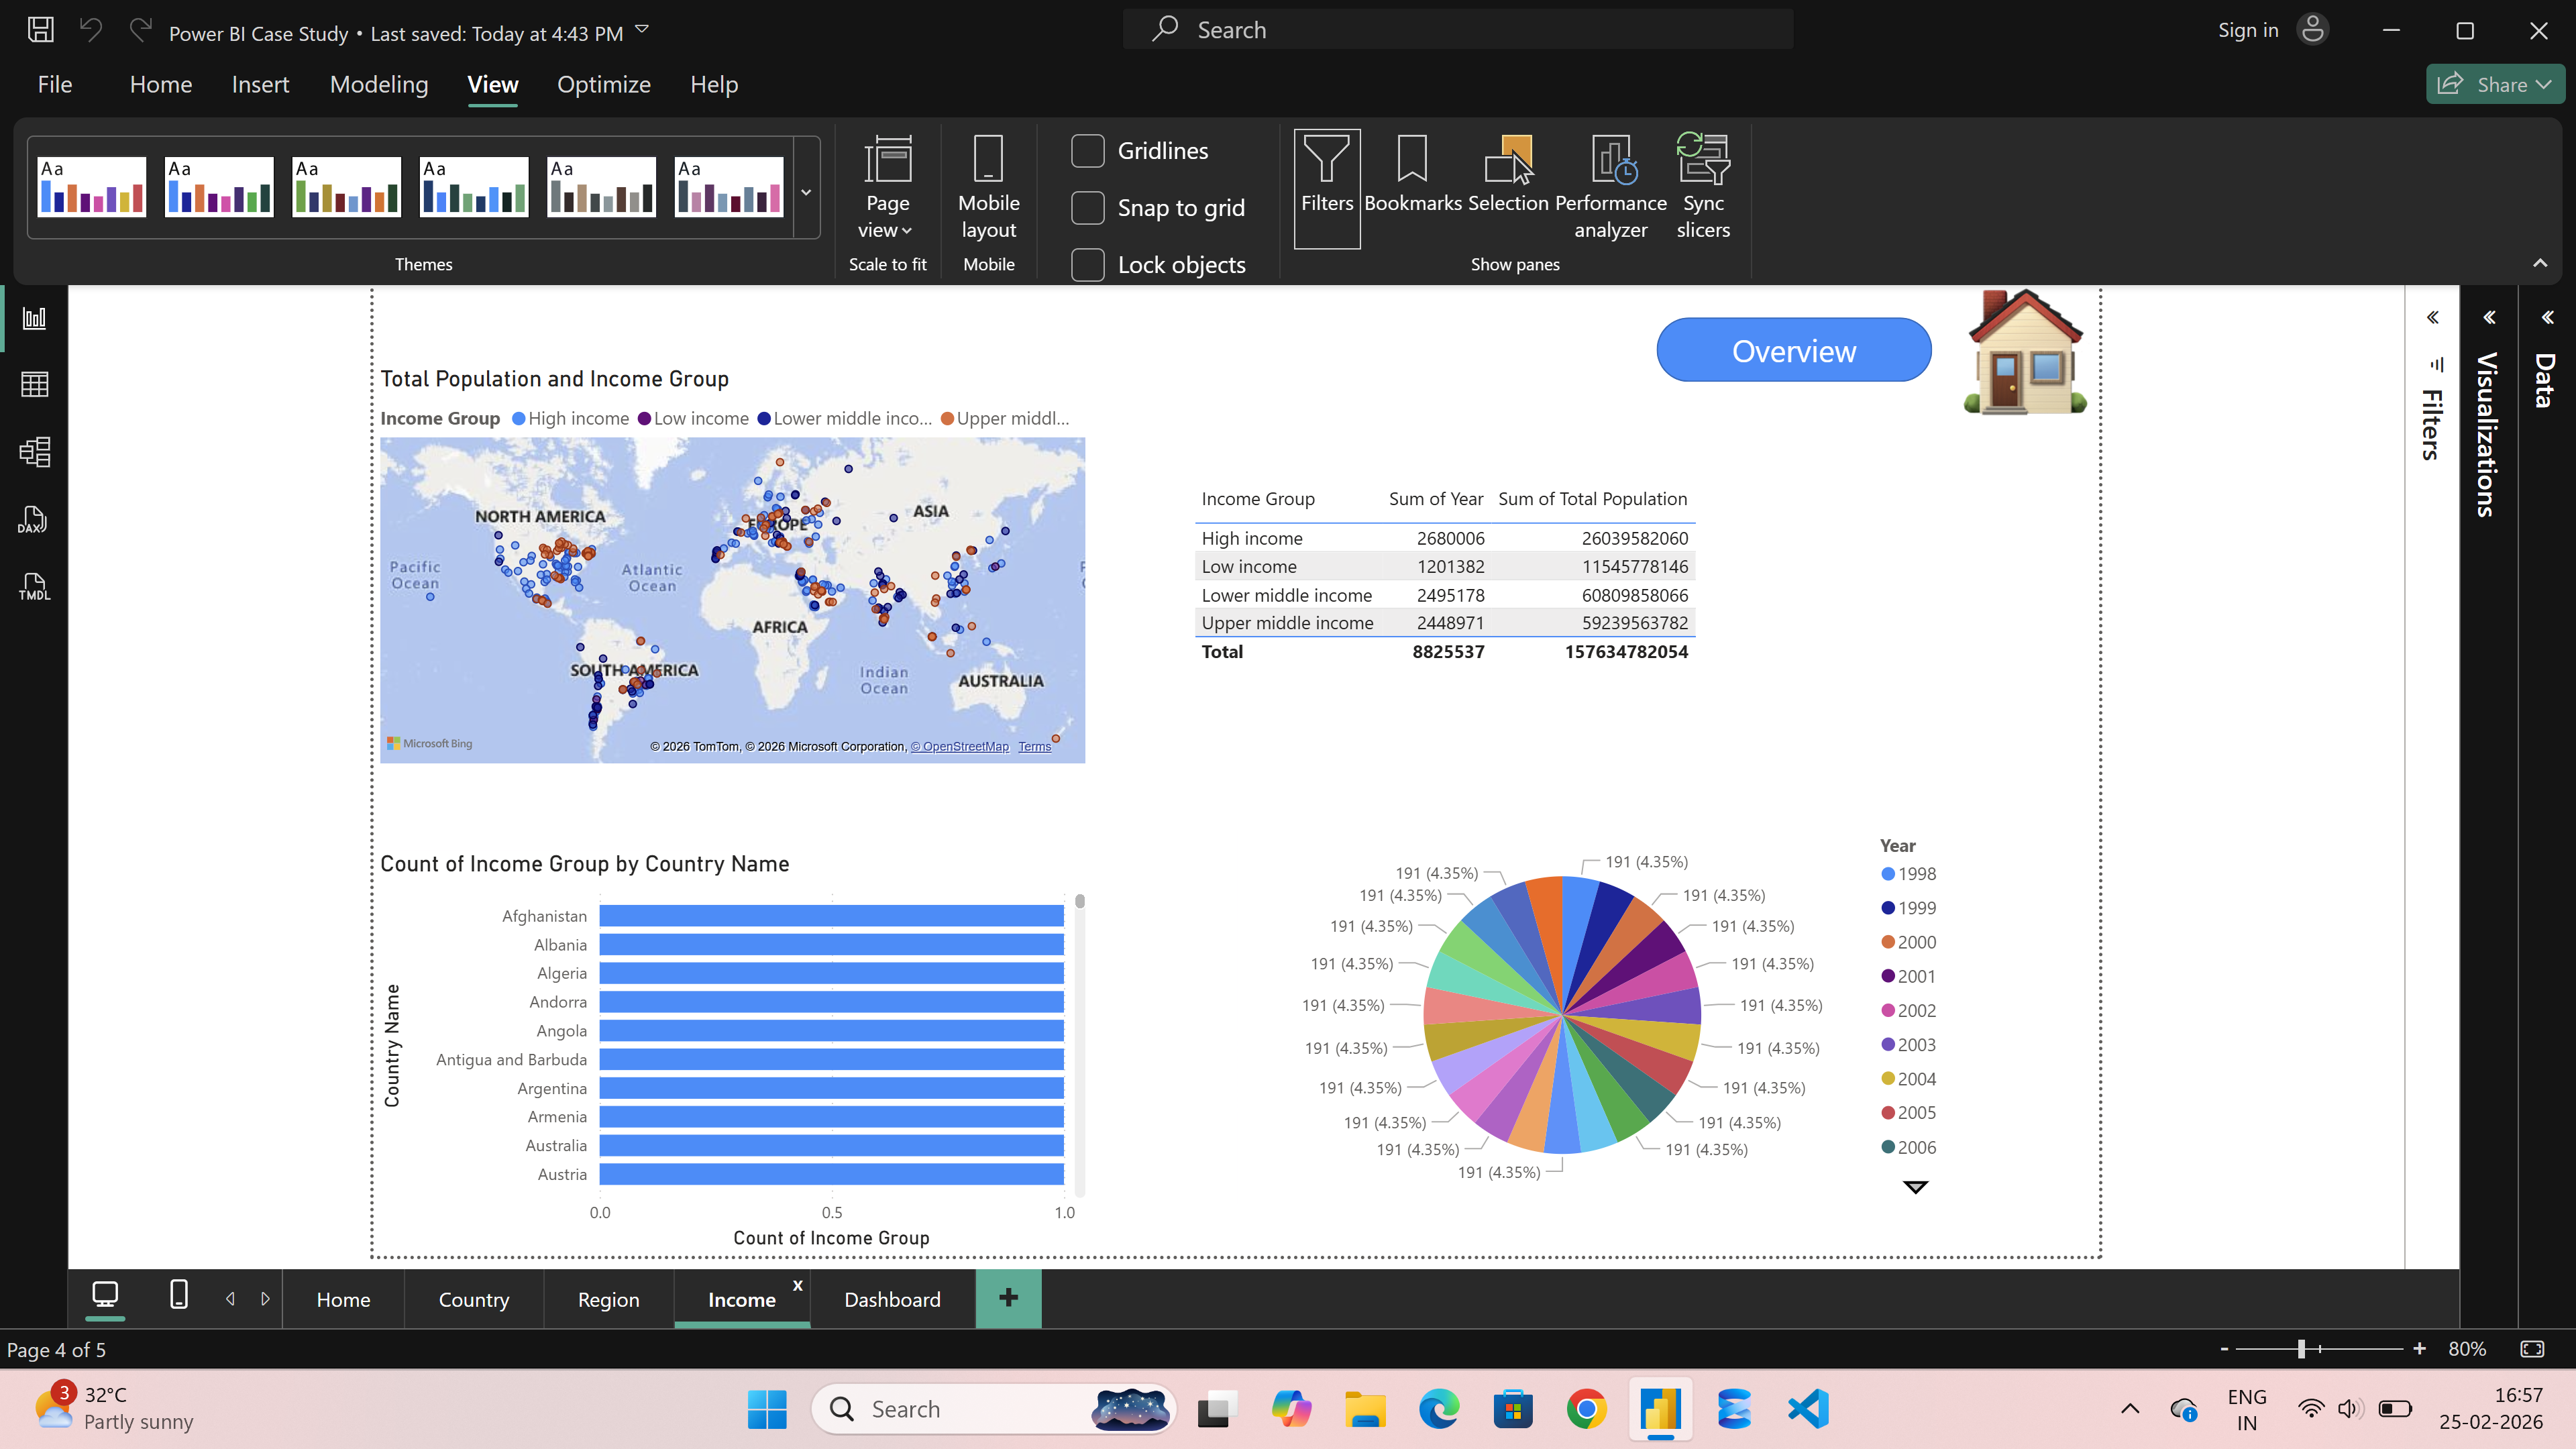

This screenshot's page, from the dashboard's own definition file:
{"tool":"powerbi","page":{"name":"Income","canvas":[1280,720],"ordinal":3},"visuals":[{"type":"image","box":[1170.2,0,109.8,98.4],"z":0},{"type":"barChart","fields":{"Category":["data.Country Name"],"Y":["Count(data.Income Group)"]},"box":[0,419.4,532.8,300],"z":1000},{"type":"map","fields":{"Category":["data.Total Population"],"Series":["data.Income Group"]},"box":[0,59.7,532.8,300],"z":2000},{"type":"pieChart","fields":{"Y":["CountNonNull(data.Income Group)"],"Category":["data.Year"]},"box":[640.3,382.1,532.8,300],"z":3000},{"type":"tableEx","fields":{"Values":["data.Income Group","Sum(data.Year)","Sum(data.Total Population)"]},"box":[603,143.3,447.8,261.2],"z":4000},{"type":"shape","title":"Overview","box":[952.2,0,204.5,71.6],"z":5000}]}

Visuals, with their boxes on the page's 1280x720 design canvas (x1, y1, x2, y2). These are canvas units, not pixel positions in the 2576x1449 screenshot, which may show the page scaled, cropped or inside an application window:
image: <bbox>1170, 0, 1280, 98</bbox>
barChart - data.Country Name x Count(data.Income Group): <bbox>0, 419, 533, 719</bbox>
map - data.Total Population x data.Income Group: <bbox>0, 60, 533, 360</bbox>
pieChart - CountNonNull(data.Income Group) x data.Year: <bbox>640, 382, 1173, 682</bbox>
tableEx - data.Income Group x Sum(data.Year): <bbox>603, 143, 1051, 404</bbox>
"Overview" shape: <bbox>952, 0, 1157, 72</bbox>
